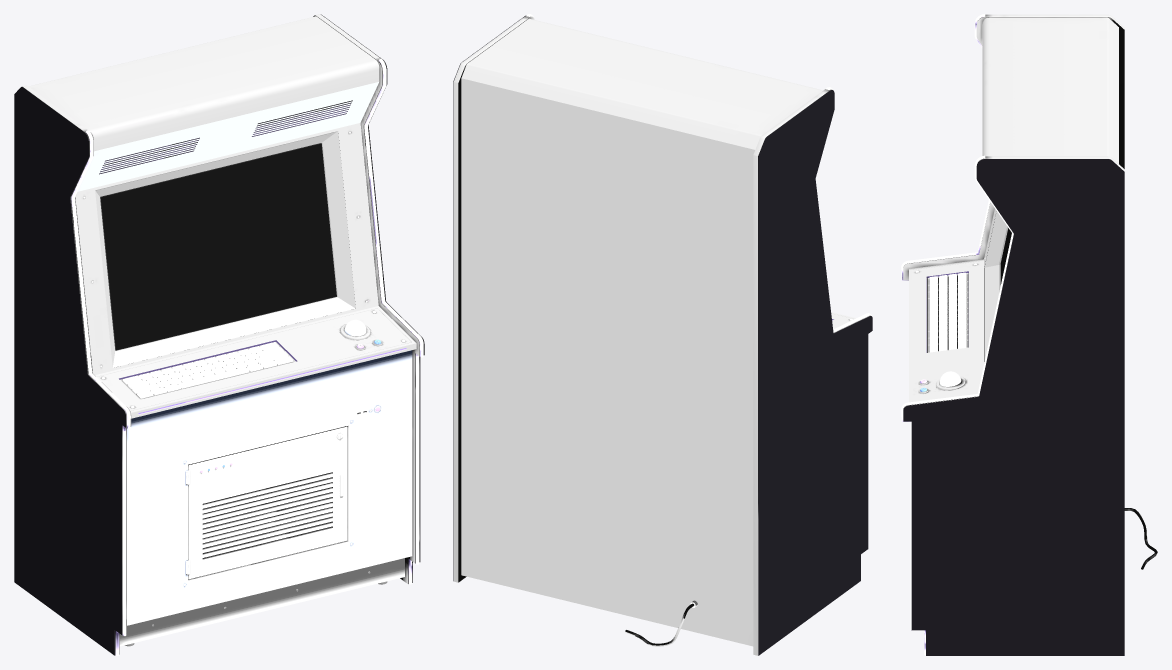
Rendered from mach-riftcast-v2.glb.
The picture shows the model from 3 angles, left to right: view 1: azimuth 30°, elevation 25°; view 2: azimuth 150°, elevation 25°; view 3: azimuth 270°, elevation 25°; orthographic projection. The views are drawn at different scales.
Parts seen in each view (by area): view 1: body, side_art_l, screen, glass, trim, controls; view 2: body, side_art_l; view 3: side_art_r, body, controls, trim, trackball.
Part boxes in pixels (x1,y1,x2,y2): body: (22,14,424,655); side_art_l: (14,87,125,655); screen: (100,143,336,349); glass: (101,144,336,350); trim: (71,58,423,655); controls: (120,300,379,472); body: (453,16,870,655); side_art_l: (758,90,872,655); side_art_r: (903,159,1124,655); body: (903,14,1124,408); controls: (927,272,968,352); trim: (901,14,1013,655); trackball: (936,371,965,390).
Size of the model in its own units: 1.2 by 1.94 by 0.904.
23 materials, 7 textured.
